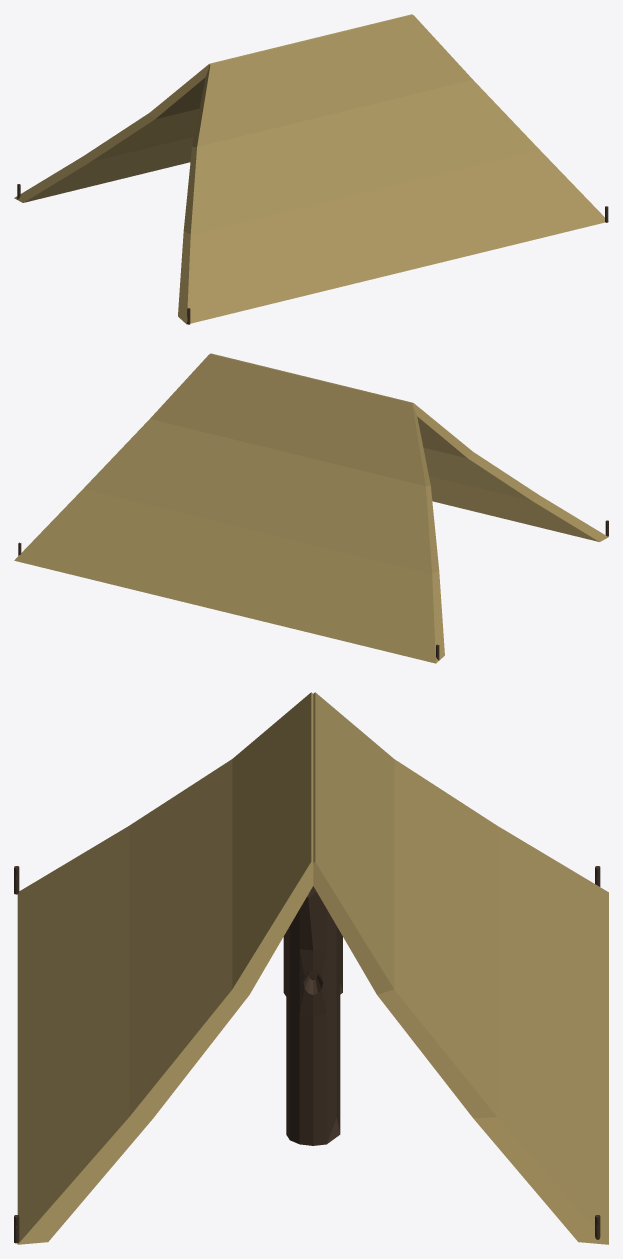
The model's file is tent.fbx.
The picture shows the model from 3 angles, top to bottom: view 1: azimuth 30°, elevation 25°; view 2: azimuth 150°, elevation 25°; view 3: azimuth 270°, elevation 25°; orthographic projection. The views are drawn at different scales.
Visible parts, largest first — view 1: Plane; view 2: Plane; view 3: Plane, Cylinder.
Part boxes in pixels (<box>): Plane: <box>14,14,608,324</box>; Plane: <box>14,353,608,663</box>; Plane: <box>17,692,608,1244</box>; Cylinder: <box>286,886,340,1145</box>.
Bounding box in the file's own units: 2605 × 1006 × 1859.
